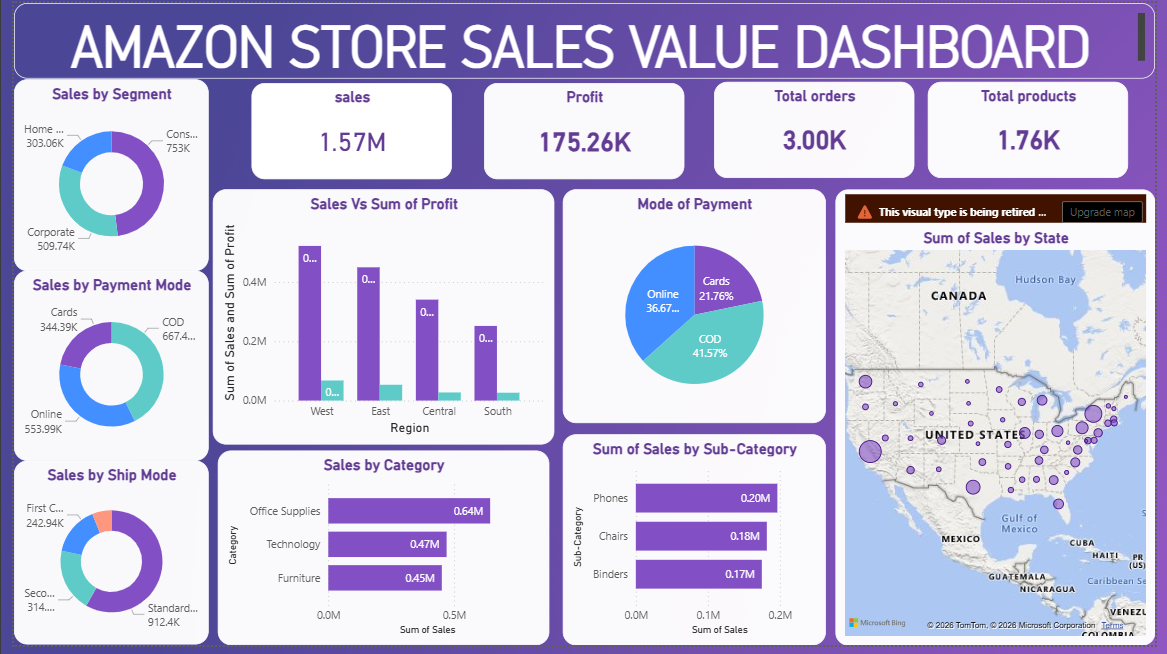

The dashboard page shown, as its layout file describes it:
{"tool":"powerbi","page":{"name":"Page 1","canvas":[1280,720],"ordinal":0},"visuals":[{"type":"card","title":"sales","fields":{"Values":["Sum(Amazon Store Sales Data xlsx - Sheet1 (1).Sales)"]},"box":[266.7,90,225,108.3],"z":0},{"type":"card","title":"Profit","fields":{"Values":["Sum(Amazon Store Sales Data xlsx - Sheet1 (1).Profit)"]},"box":[526.7,90,225,108.3],"z":1000},{"type":"card","title":"Total orders","fields":{"Values":["Count(Amazon Store Sales Data xlsx - Sheet1 (1).Order ID)"]},"box":[785,88.3,225,108.3],"z":2000},{"type":"card","title":"Total products","fields":{"Values":["Count(Amazon Store Sales Data xlsx - Sheet1 (1).Product ID)"]},"box":[1025,88.3,225,108.3],"z":3000},{"type":"clusteredBarChart","title":"Sales by Category","fields":{"Category":["Amazon Store Sales Data xlsx - Sheet1 (1).Category"],"Y":["Sum(Amazon Store Sales Data xlsx - Sheet1 (1).Sales)"]},"box":[228.3,501.7,371.7,218.3],"z":4000},{"type":"clusteredBarChart","fields":{"Category":["Amazon Store Sales Data xlsx - Sheet1 (1).Sub-Category"],"Y":["Sum(Amazon Store Sales Data xlsx - Sheet1 (1).Sales)"]},"box":[615,483.3,295,236.7],"z":5000},{"type":"donutChart","title":"Sales by Segment","fields":{"Category":["Amazon Store Sales Data xlsx - Sheet1 (1).Segment"],"Y":["Sum(Amazon Store Sales Data xlsx - Sheet1 (1).Sales)"]},"box":[0,85,218.3,215],"z":6000},{"type":"map","fields":{"Category":["Amazon Store Sales Data xlsx - Sheet1 (1).State"],"Size":["Sum(Amazon Store Sales Data xlsx - Sheet1 (1).Sales)"]},"box":[920.8,208.6,359.5,511.8],"z":7000},{"type":"pieChart","title":"Mode of  Payment","fields":{"Category":["Amazon Store Sales Data xlsx - Sheet1 (1).Payment Mode"],"Y":["CountNonNull(Amazon Store Sales Data xlsx - Sheet1 (1).Order ID)"]},"box":[616.1,208.6,295,262.1],"z":8000},{"type":"donutChart","title":"Sales by Payment Mode","fields":{"Category":["Amazon Store Sales Data xlsx - Sheet1 (1).Payment Mode"],"Y":["Sum(Amazon Store Sales Data xlsx - Sheet1 (1).Sales)"]},"box":[0,300,218.3,213.3],"z":9000},{"type":"donutChart","title":"Sales by Ship Mode","fields":{"Category":["Amazon Store Sales Data xlsx - Sheet1 (1).Ship Mode"],"Y":["Sum(Amazon Store Sales Data xlsx - Sheet1 (1).Sales)"]},"box":[0,513.3,218.3,206.7],"z":10000},{"type":"clusteredColumnChart","title":"Sales Vs Sum of Profit","fields":{"Y":["Sum(Amazon Store Sales Data xlsx - Sheet1 (1).Sales)","Sum(Amazon Store Sales Data xlsx - Sheet1 (1).Profit)"],"Category":["Amazon Store Sales Data xlsx - Sheet1 (1).Region"]},"box":[223.3,208.3,383.3,286.7],"z":11000},{"type":"textbox","box":[0,0,1280,85],"z":12000}]}

Visuals, with their boxes in screenshot pixels (x1, y1, x2, y2), scaled from the page's 1280x720 canvas onto the 1167x654 screenshot:
"sales" card: (x1=243, y1=82, x2=448, y2=180)
"Profit" card: (x1=480, y1=82, x2=685, y2=180)
"Total orders" card: (x1=716, y1=80, x2=921, y2=179)
"Total products" card: (x1=935, y1=80, x2=1140, y2=179)
"Sales by Category" clusteredBarChart: (x1=208, y1=456, x2=547, y2=653)
clusteredBarChart - Amazon Store Sales Data xlsx - Sheet1 (1).Sub-Category x Sum(Amazon Store Sales Data xlsx - Sheet1 (1).Sales): (x1=561, y1=439, x2=830, y2=653)
"Sales by Segment" donutChart: (x1=0, y1=77, x2=199, y2=272)
map - Amazon Store Sales Data xlsx - Sheet1 (1).State x Sum(Amazon Store Sales Data xlsx - Sheet1 (1).Sales): (x1=840, y1=189, x2=1166, y2=653)
"Mode of  Payment" pieChart: (x1=562, y1=189, x2=831, y2=428)
"Sales by Payment Mode" donutChart: (x1=0, y1=272, x2=199, y2=466)
"Sales by Ship Mode" donutChart: (x1=0, y1=466, x2=199, y2=653)
"Sales Vs Sum of Profit" clusteredColumnChart: (x1=204, y1=189, x2=553, y2=450)
textbox: (x1=0, y1=0, x2=1166, y2=77)
